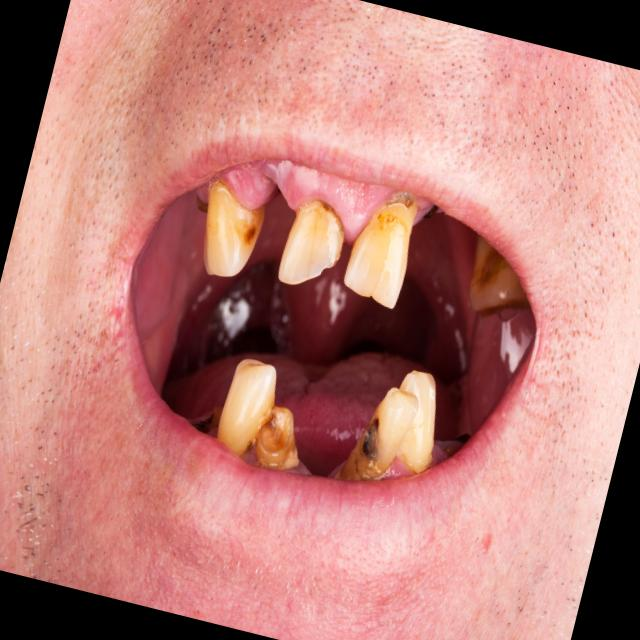Caries: (423, 204, 438, 219), (362, 441, 369, 454), (247, 229, 255, 239), (375, 419, 378, 433)
Cavity: (258, 405, 293, 453), (361, 418, 379, 456), (383, 195, 413, 208)
Tooth: (344, 195, 418, 309), (339, 386, 418, 481), (203, 181, 265, 276), (216, 358, 276, 456), (278, 199, 344, 284), (469, 234, 527, 311), (396, 370, 435, 472), (256, 405, 299, 470)
